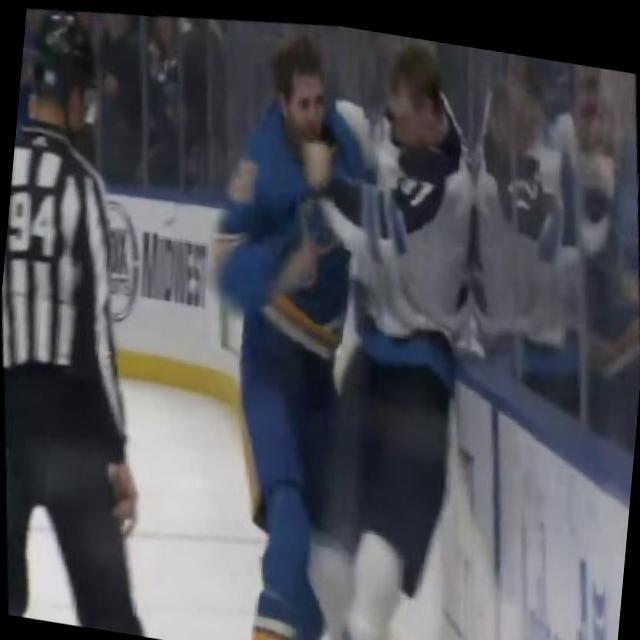fight: (153, 9, 534, 640)
